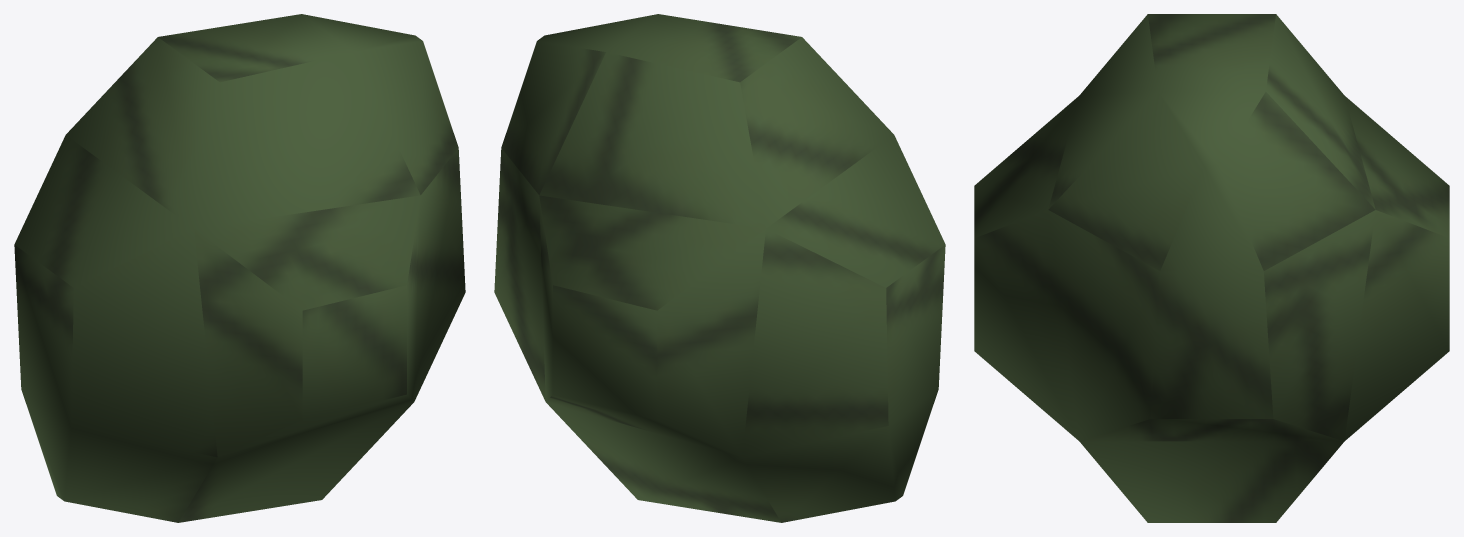
Rendered from Phase 1 Bamboo 4.fbx.
3 views of the same model, side by side, from view 1: azimuth 30°, elevation 25°; view 2: azimuth 150°, elevation 25°; view 3: azimuth 270°, elevation 25° (orthographic). The views are drawn at different scales.
Parts seen in each view (by area): view 1: Phase 1 Bamboo 4; view 2: Phase 1 Bamboo 4; view 3: Phase 1 Bamboo 4.
Part boxes in pixels (bbox=[...]): Phase 1 Bamboo 4: bbox=[14, 14, 465, 522]; Phase 1 Bamboo 4: bbox=[494, 14, 945, 522]; Phase 1 Bamboo 4: bbox=[974, 14, 1449, 522].
Size of the model in its own units: 27.31 by 29.48 by 27.74.
